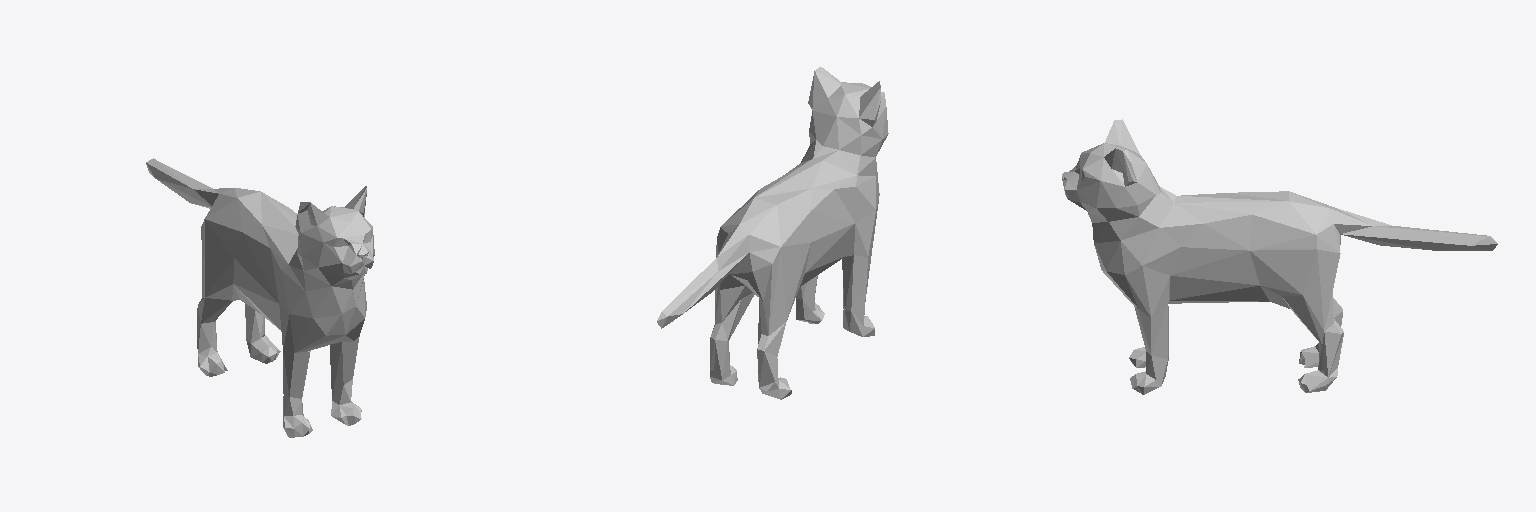
Rendered from Cat.obj.
3 views of the same model, side by side, from view 1: azimuth 30°, elevation 25°; view 2: azimuth 150°, elevation 25°; view 3: azimuth 270°, elevation 25° (orthographic).
Parts seen in each view (by area): view 1: Cat; view 2: Cat; view 3: Cat.
Boxes of the visible parts, x1,y1,x2,y2 form: Cat: [146, 158, 374, 437]; Cat: [657, 67, 888, 399]; Cat: [1062, 119, 1497, 394].
Bounding box in the file's own units: 12.85 × 37.67 × 60.93.